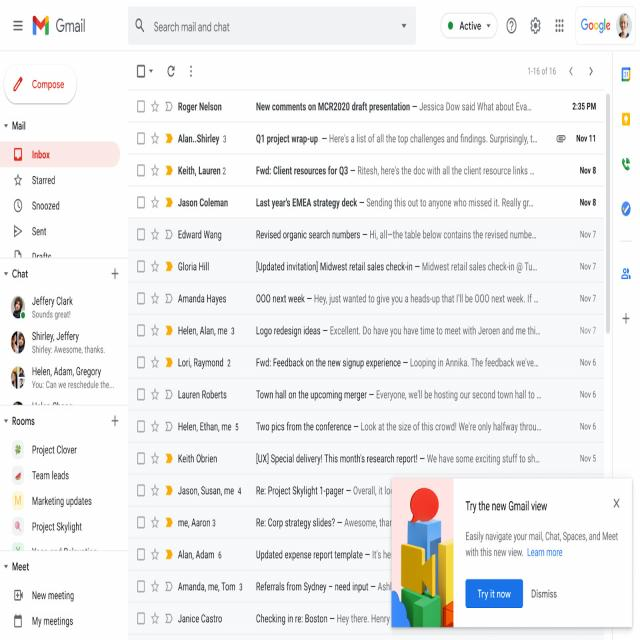button: (128, 121, 606, 154), (128, 186, 606, 218), (128, 378, 604, 410), (128, 345, 603, 377), (128, 251, 604, 282), (128, 442, 604, 473), (129, 282, 604, 313), (128, 91, 606, 121), (128, 218, 605, 248), (128, 314, 604, 344), (129, 411, 603, 441), (128, 156, 606, 185), (128, 473, 390, 508), (128, 602, 391, 634), (128, 507, 391, 538), (128, 570, 390, 601), (128, 538, 391, 568), (0, 324, 128, 361), (0, 290, 128, 324), (0, 362, 128, 394), (1, 435, 128, 464), (0, 513, 128, 539), (0, 193, 120, 220), (0, 583, 128, 608), (1, 464, 128, 488), (0, 142, 120, 167), (0, 167, 120, 192), (0, 609, 128, 632), (0, 220, 120, 244), (0, 490, 127, 512), (4, 66, 77, 104), (576, 7, 636, 44), (29, 9, 90, 42), (0, 244, 120, 258), (465, 580, 523, 608), (605, 93, 611, 333), (441, 13, 497, 38), (0, 395, 128, 405), (0, 540, 128, 550), (616, 102, 637, 138), (615, 58, 637, 92), (616, 193, 638, 226), (616, 148, 637, 182), (616, 258, 636, 289), (502, 11, 522, 41), (616, 303, 636, 333), (550, 12, 570, 41), (526, 12, 546, 40), (10, 14, 28, 38), (396, 12, 412, 38), (609, 490, 624, 514), (133, 14, 148, 36), (585, 59, 597, 84), (109, 411, 122, 431), (554, 130, 568, 148), (165, 62, 178, 81), (163, 514, 176, 533), (163, 609, 176, 628), (185, 62, 197, 82), (109, 264, 121, 284), (163, 352, 175, 372), (567, 58, 576, 84), (163, 322, 176, 340), (163, 546, 176, 564), (149, 482, 161, 501), (150, 513, 162, 532), (149, 546, 162, 563), (163, 226, 175, 244), (149, 322, 161, 340), (149, 353, 161, 371), (149, 385, 161, 403), (163, 386, 175, 404), (163, 418, 175, 436), (163, 450, 175, 468), (163, 482, 175, 500), (149, 578, 161, 596), (163, 578, 175, 596), (149, 610, 161, 628), (163, 194, 175, 211), (163, 258, 175, 275), (150, 258, 161, 276), (164, 290, 175, 308), (163, 162, 174, 179), (150, 290, 161, 307), (163, 98, 174, 114), (163, 130, 174, 146), (150, 98, 160, 115), (150, 194, 160, 211), (150, 226, 160, 243), (150, 418, 160, 435), (150, 450, 160, 467), (150, 162, 160, 178), (150, 131, 160, 146), (148, 66, 155, 77)
field: (128, 6, 414, 44), (137, 389, 145, 400), (138, 132, 145, 144), (137, 66, 145, 76), (138, 612, 144, 624), (138, 101, 144, 112), (138, 166, 144, 177), (138, 197, 144, 208), (138, 261, 144, 272), (138, 293, 144, 304), (138, 357, 144, 368), (138, 421, 144, 432), (138, 453, 144, 464), (138, 485, 144, 496), (138, 517, 144, 528), (138, 549, 144, 560), (138, 581, 144, 592), (138, 230, 144, 240), (138, 326, 144, 336)
